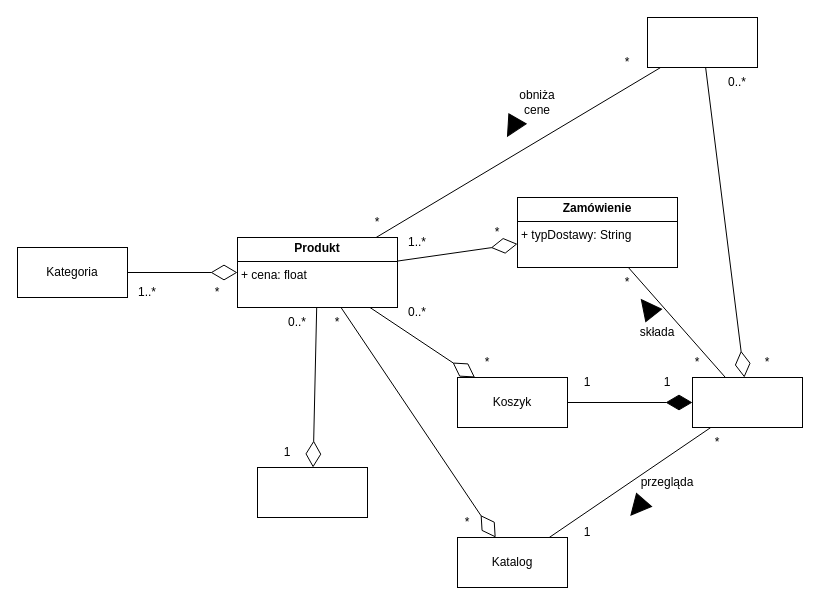
The diagram is 820 pixels wide and 605 high, and some of its shapes have lost their labels. Here are the shapes that lost their labels. From the top down, the centre of each, then its label:
the point at 702,42: Kupon rabatowy
the point at 747,402: Klient
the point at 312,492: Magazyn
